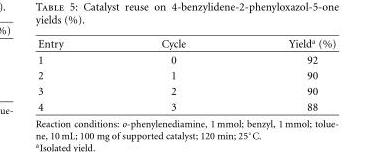table: (37, 36, 335, 112)
table column: (111, 36, 236, 112), (236, 36, 335, 112), (37, 36, 111, 112)
table column header: (37, 36, 335, 51)
table row: (37, 51, 335, 67), (37, 67, 335, 83), (37, 36, 335, 51), (37, 83, 335, 98), (37, 98, 335, 112)
